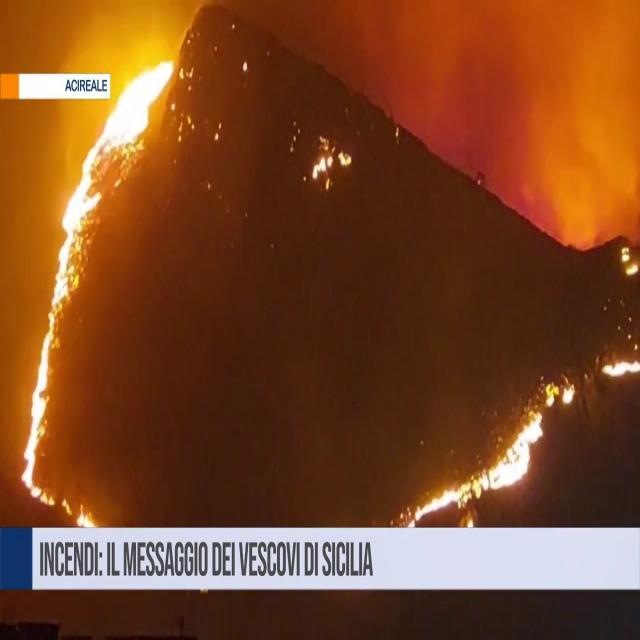Fire: (18, 17, 180, 506), (404, 399, 546, 522)
Smoke: (392, 1, 640, 260)
